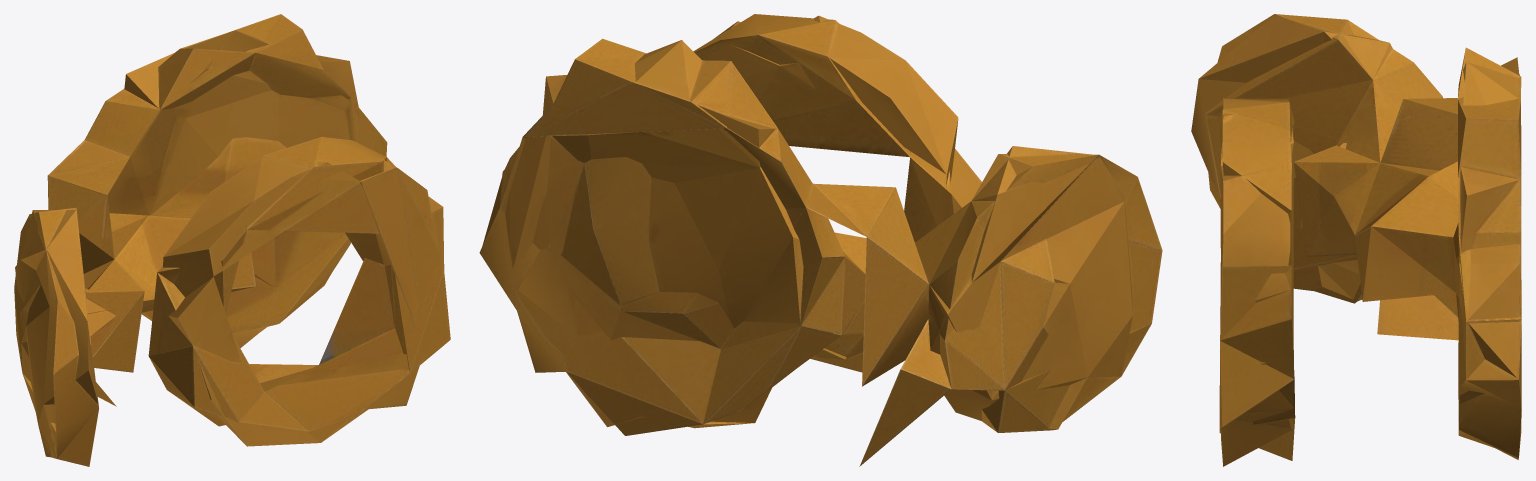
File: pilha-de-engrenagens.glb
The picture shows the model from 3 angles, left to right: view 1: azimuth 30°, elevation 25°; view 2: azimuth 150°, elevation 25°; view 3: azimuth 270°, elevation 25°; orthographic projection. The views are drawn at different scales.
Size of the model in its own units: 1.9 by 1.35 by 1.05.
Materials: 1 (1 with a texture image).
